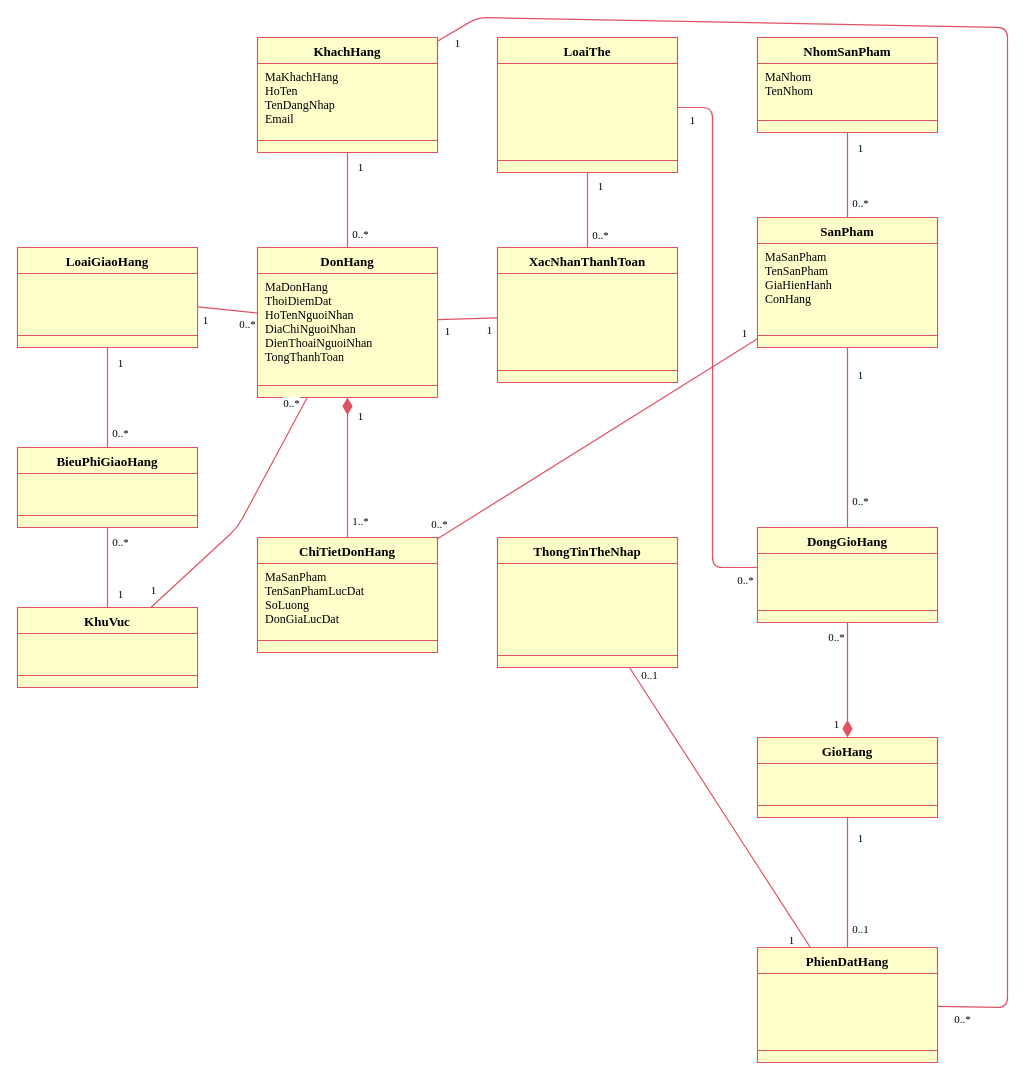
Image size: 1027x1081. Some labels were removed from this diagram. Here are the shapes that lost their labels. From the top down, the centre of each, then its label:
At (587,111): "MaLoaiThe TenLoai SoChuSo DoDaiCSV LePhiSuDung".
At (107,304): "MaLoaiGiaoHang TenLoai ThoiGianXuLy".
At (587,321): "MaXacNhan MaThamChieu BonSoCuoi TrangThai ThoiDiemXacMinh".
At (107,494): "PhiCoBan".
At (847,581): "SoLuong DonGiaTamTinh".
At (587,609): "SoThe TenChuThe NgayHetHan CSV".
At (107,654): "MaKhuVuc TenKhuVuc".
At (847,784): "/TongTienTamTinh".
At (847,1011): "MaYeuCau TrangThai TongDaXacNhan".
